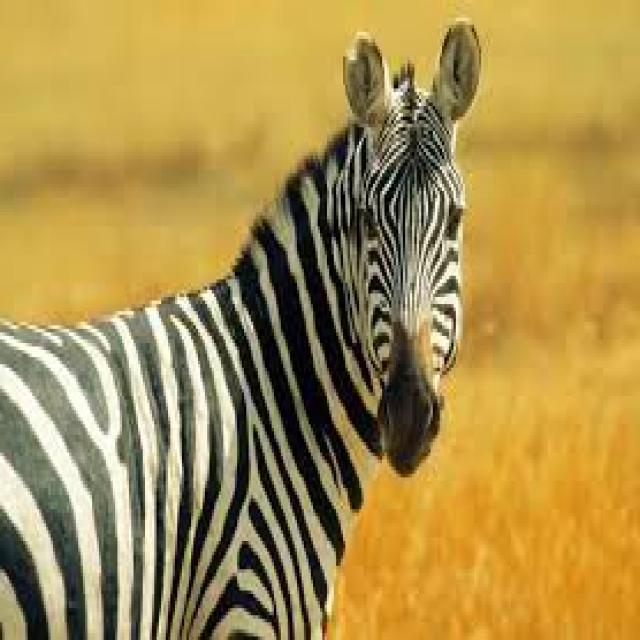zebra: (2, 21, 481, 636)
